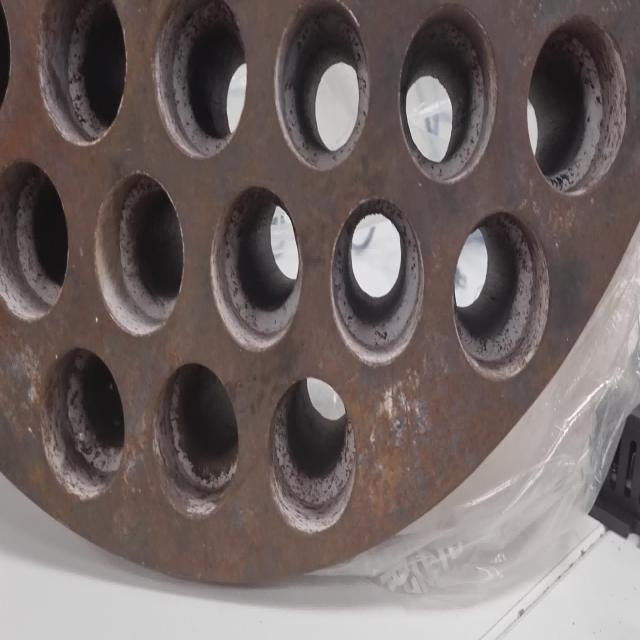Hole: (526, 13, 628, 196), (399, 4, 498, 184), (452, 209, 551, 381), (274, 0, 371, 172), (330, 194, 424, 366), (152, 0, 248, 160), (211, 185, 302, 352), (95, 170, 184, 338), (268, 378, 358, 536), (152, 361, 240, 519), (40, 346, 126, 502), (37, 0, 126, 146), (1, 158, 69, 322)
